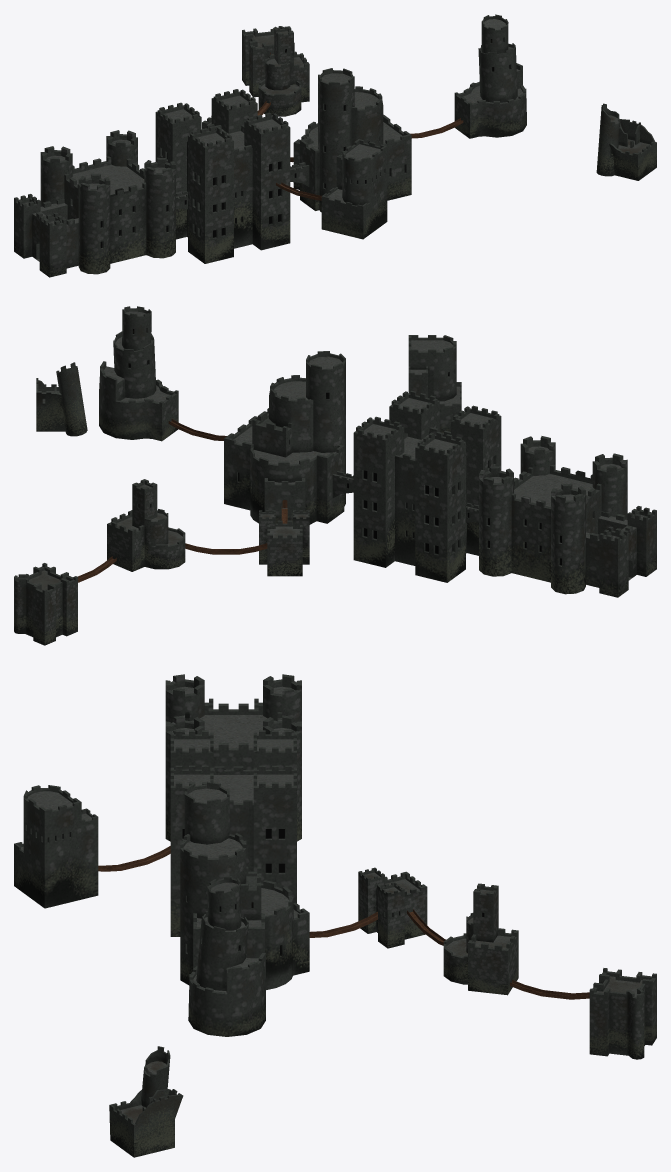
The picture shows the model from 3 angles, top to bottom: view 1: azimuth 30°, elevation 25°; view 2: azimuth 150°, elevation 25°; view 3: azimuth 270°, elevation 25°; orthographic projection. The views are drawn at different scales.
Visible parts, largest first — view 1: landmark; view 2: landmark; view 3: landmark.
Part boxes in pixels (left/top/right/bottom): landmark: left=14, top=14, right=656, bottom=277; landmark: left=14, top=306, right=656, bottom=645; landmark: left=14, top=674, right=656, bottom=1157.
Size of the model in its own units: 34.55 by 9.19 by 25.56.
Materials: 3 (3 with a texture image).
